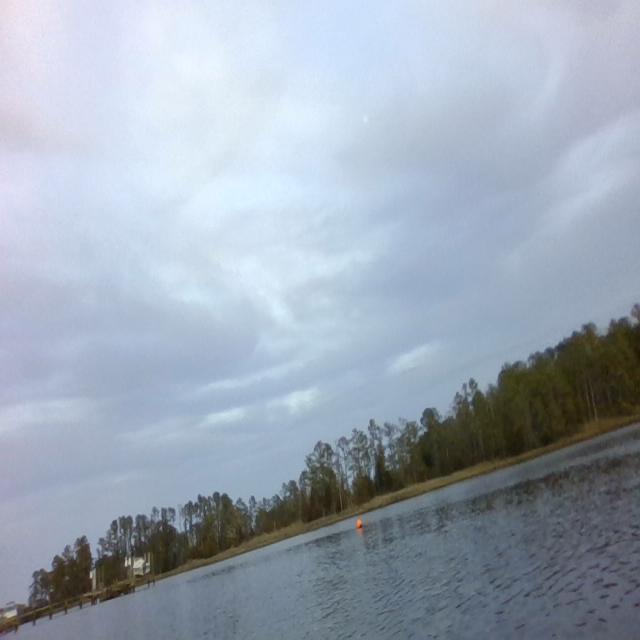Buoy: (354, 512, 366, 535)
